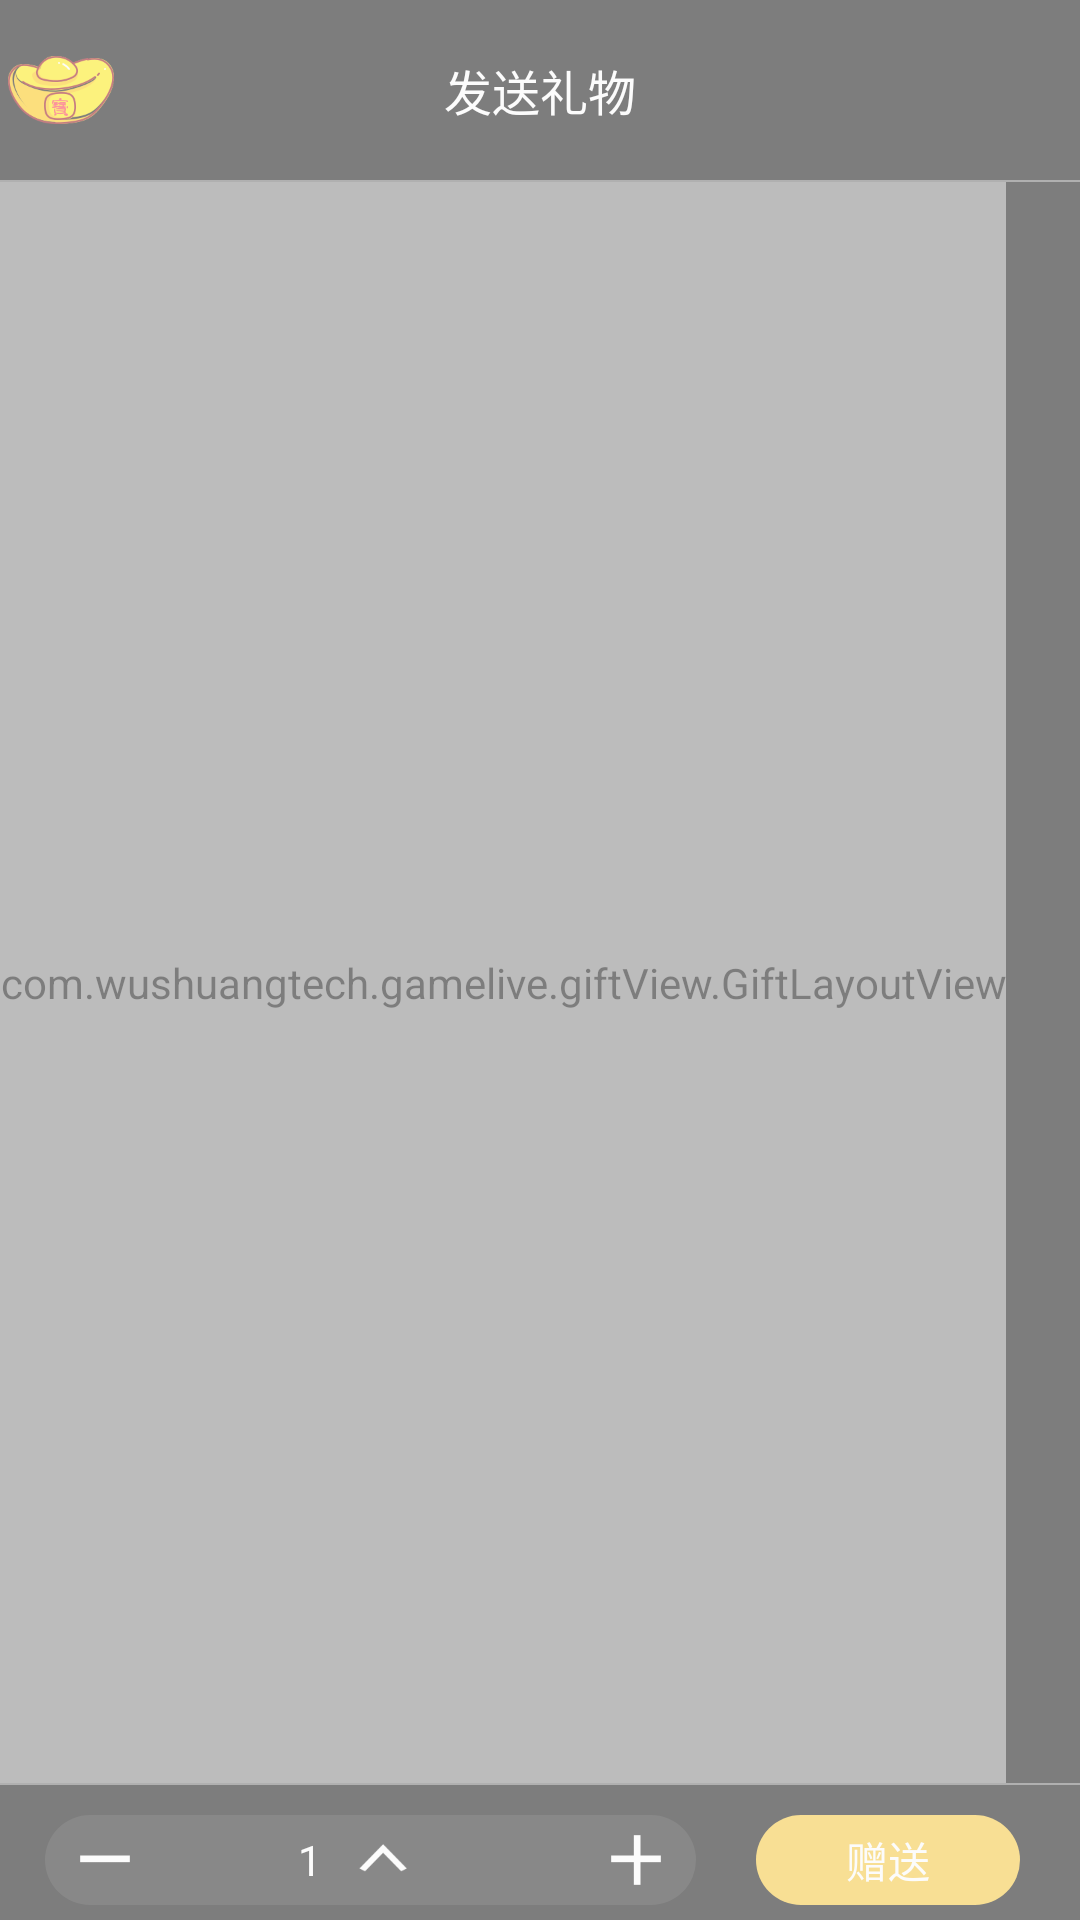

Named icons in this screenshot (1080 × 1920) and their centers, point (x, y):
jia: point (636, 1860)
yuanbao: point (61, 90)
